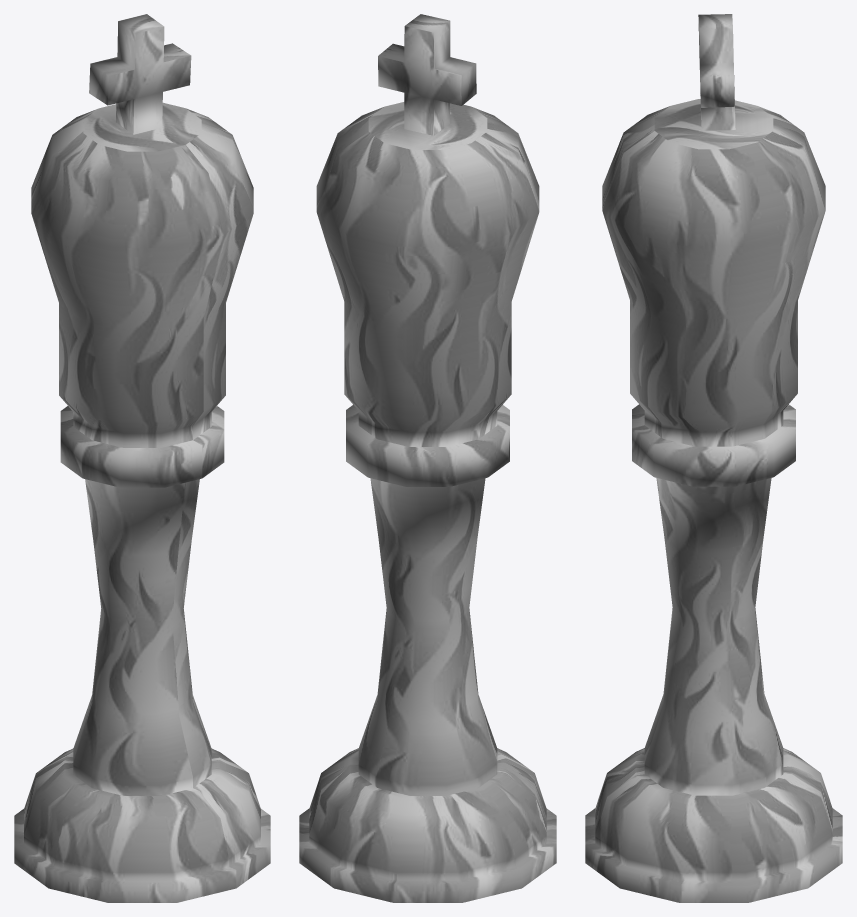
Rendered from King.glb.
3 renders of one model, left to right at view 1: azimuth 30°, elevation 25°; view 2: azimuth 150°, elevation 25°; view 3: azimuth 270°, elevation 25°, orthographic.
Parts seen in each view (by area): view 1: King; view 2: King; view 3: King.
Part boxes in pixels (x1,y1,x2,y2): King: (14,14,270,902); King: (299,14,556,902); King: (585,14,842,902).
Size of the model in its own units: 0.1256 by 0.4453 by 0.1256.
1 material, 1 textured.
